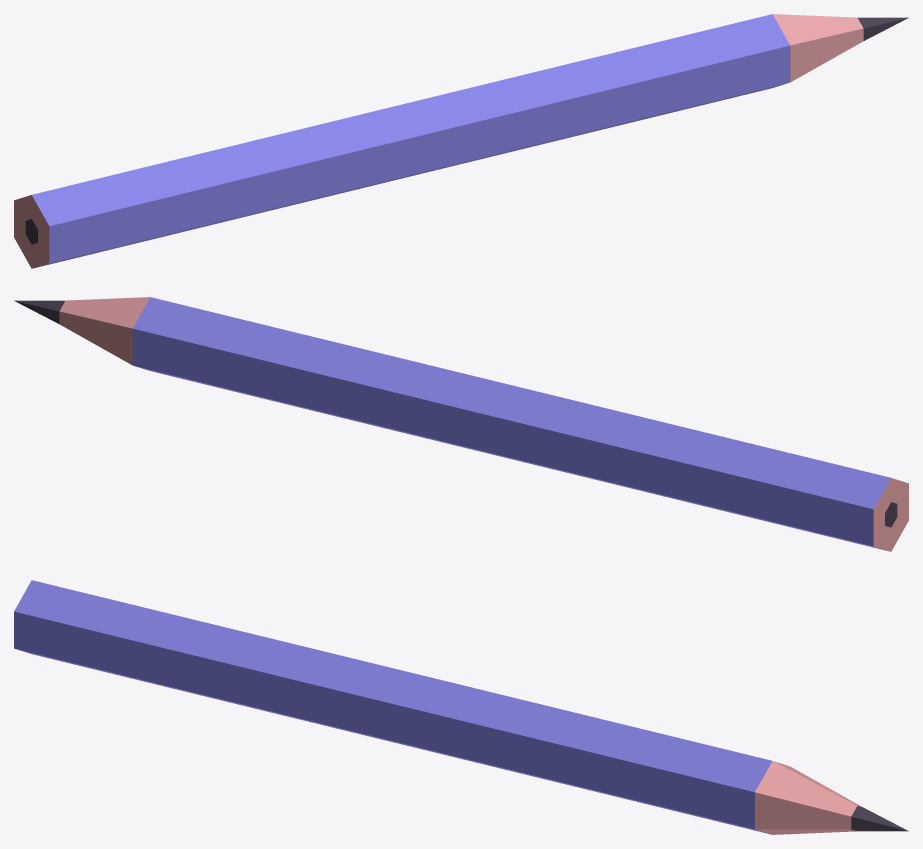
Rendered from pencil.fbx.
3 views of the same model, one above another, from view 1: azimuth 30°, elevation 25°; view 2: azimuth 150°, elevation 25°; view 3: azimuth 330°, elevation 25° (orthographic).
Visible parts, largest first — view 1: pemcil; view 2: pemcil; view 3: pemcil.
Part boxes in pixels (x1=…): pemcil: x1=14, y1=14, x2=908, y2=268; pemcil: x1=14, y1=297, x2=908, y2=551; pemcil: x1=14, y1=580, x2=908, y2=834.
Size of the model in its own units: 425 by 34.27 by 29.68.
